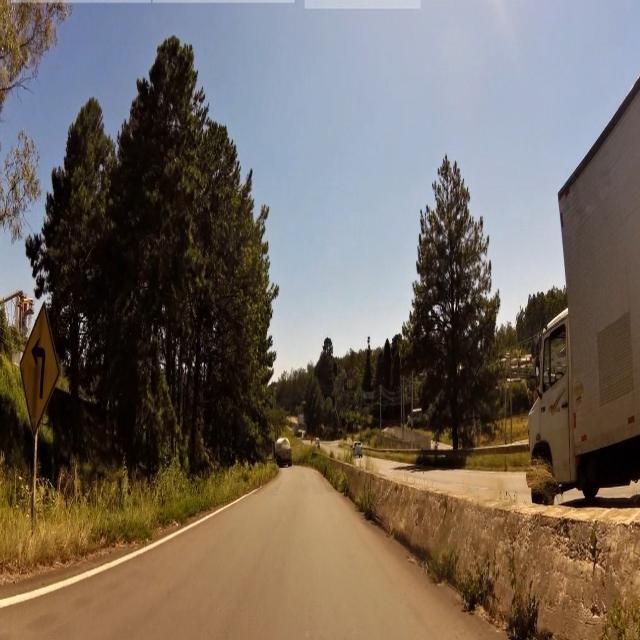A-1a: (20, 298, 57, 442)
